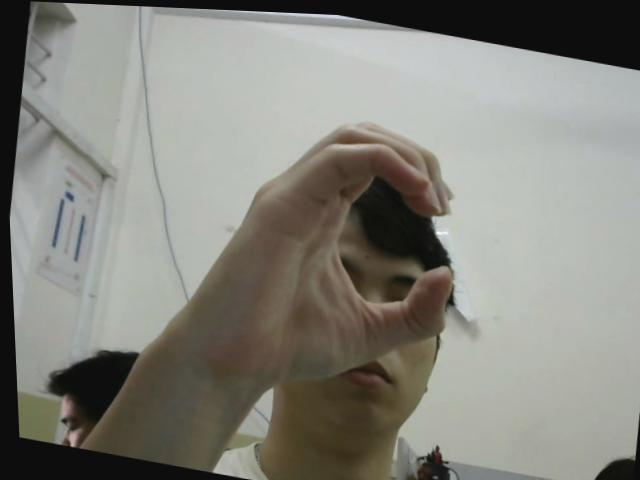C: (187, 88, 477, 413)
